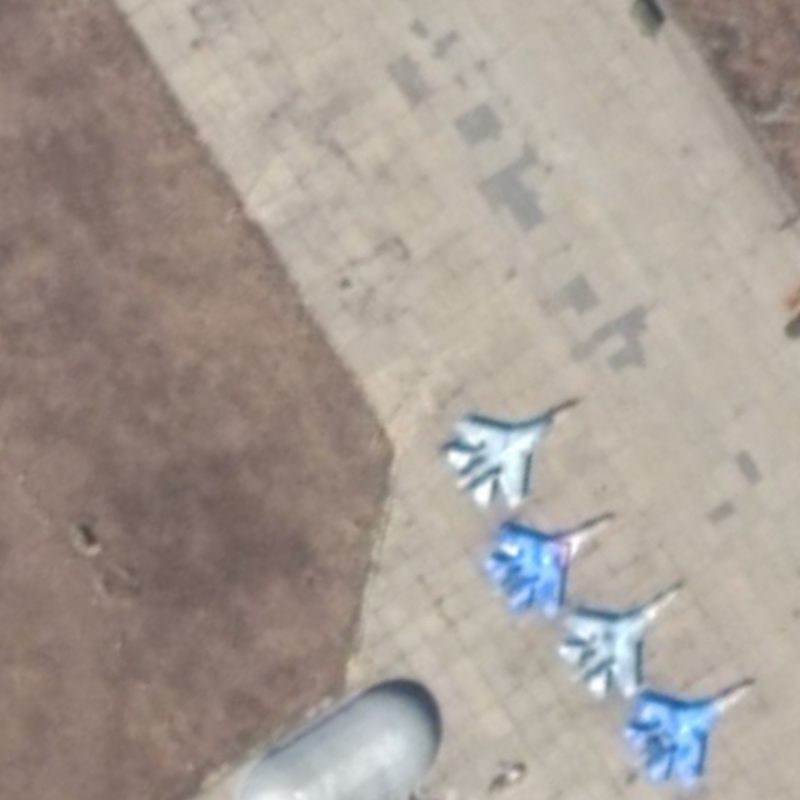A1: (444, 398, 584, 511), (553, 584, 685, 702), (619, 678, 755, 790), (479, 512, 614, 620)
